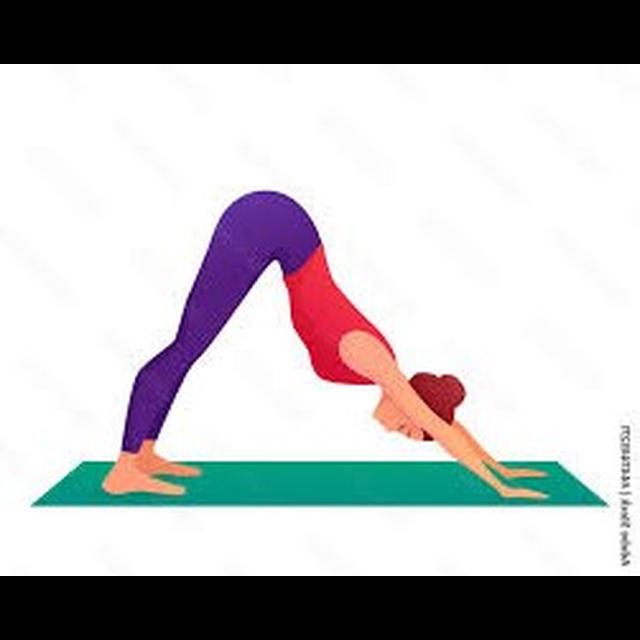Downward-Facing_Dog: (97, 186, 561, 506)
